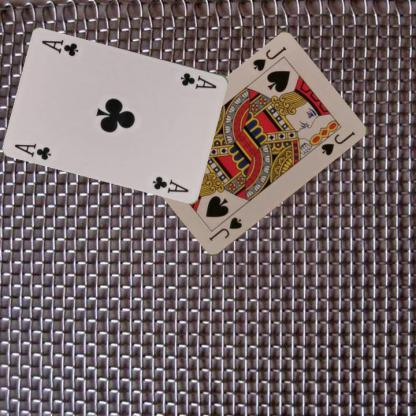Ac: (12, 140, 53, 162), (178, 69, 218, 90)
Js: (206, 214, 244, 243), (250, 44, 288, 73)
